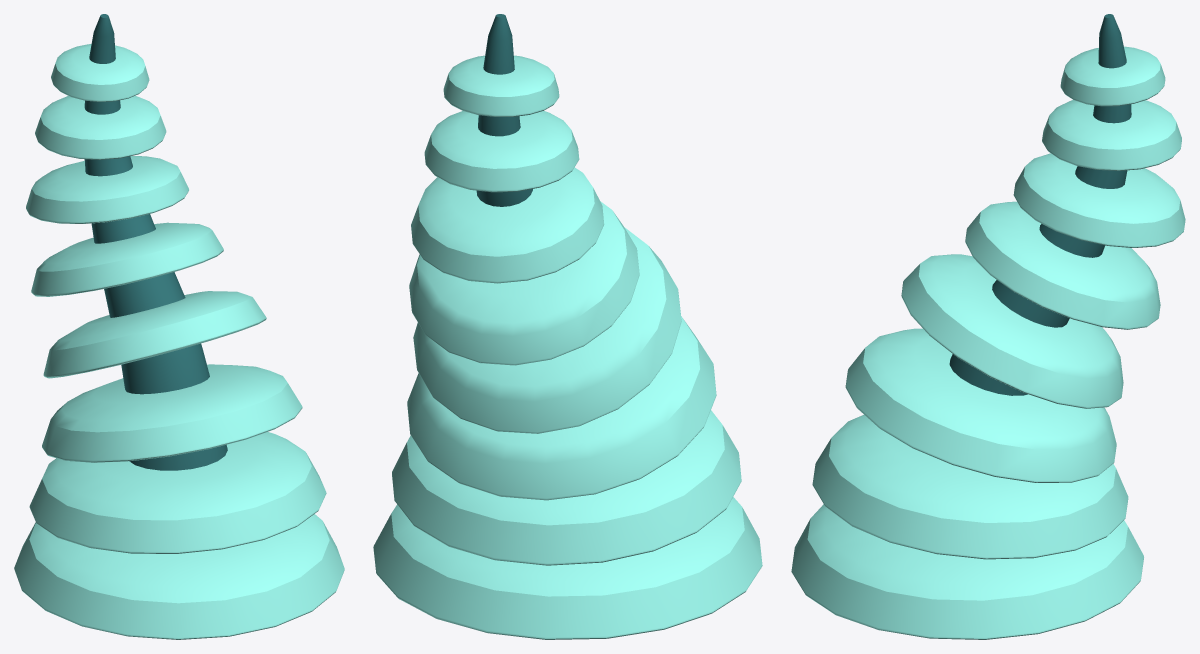
File: Tree01.fbx
3 views of the same model, side by side, from view 1: azimuth 30°, elevation 25°; view 2: azimuth 150°, elevation 25°; view 3: azimuth 270°, elevation 25° (orthographic). The views are drawn at different scales.
Visible parts, largest first — view 1: pCylinder28; view 2: pCylinder28; view 3: pCylinder28.
Part boxes in pixels (box(x1,y1,x2,y2)): pCylinder28: box(14, 14, 344, 639); pCylinder28: box(373, 14, 762, 639); pCylinder28: box(791, 14, 1185, 639).
Bounding box in the file's own units: 141 × 249 × 157.
